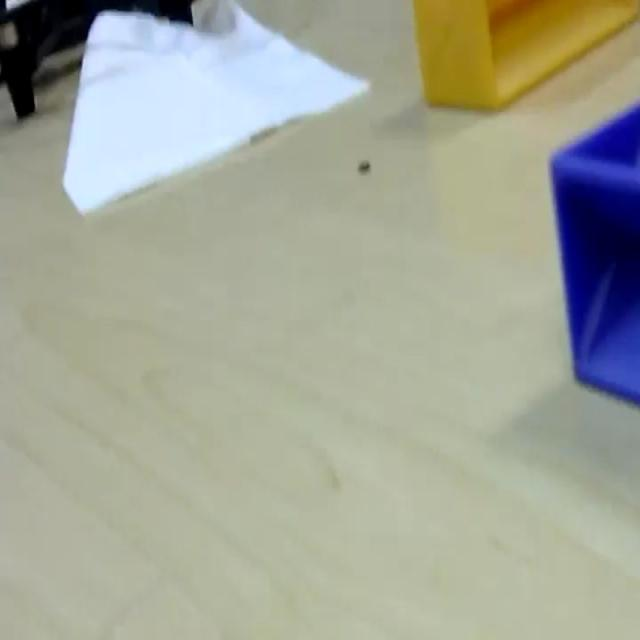blue_block: (548, 97, 638, 406)
yellow_block: (411, 0, 638, 111)
